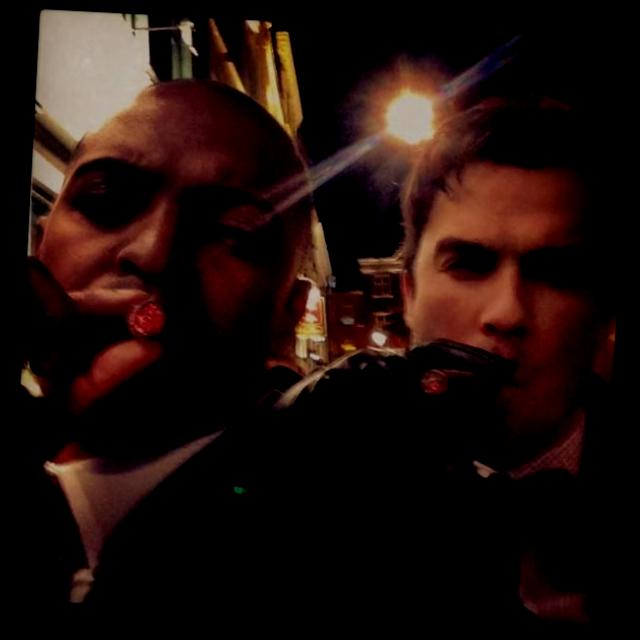smoke: (417, 359, 515, 402), (126, 286, 180, 346)
